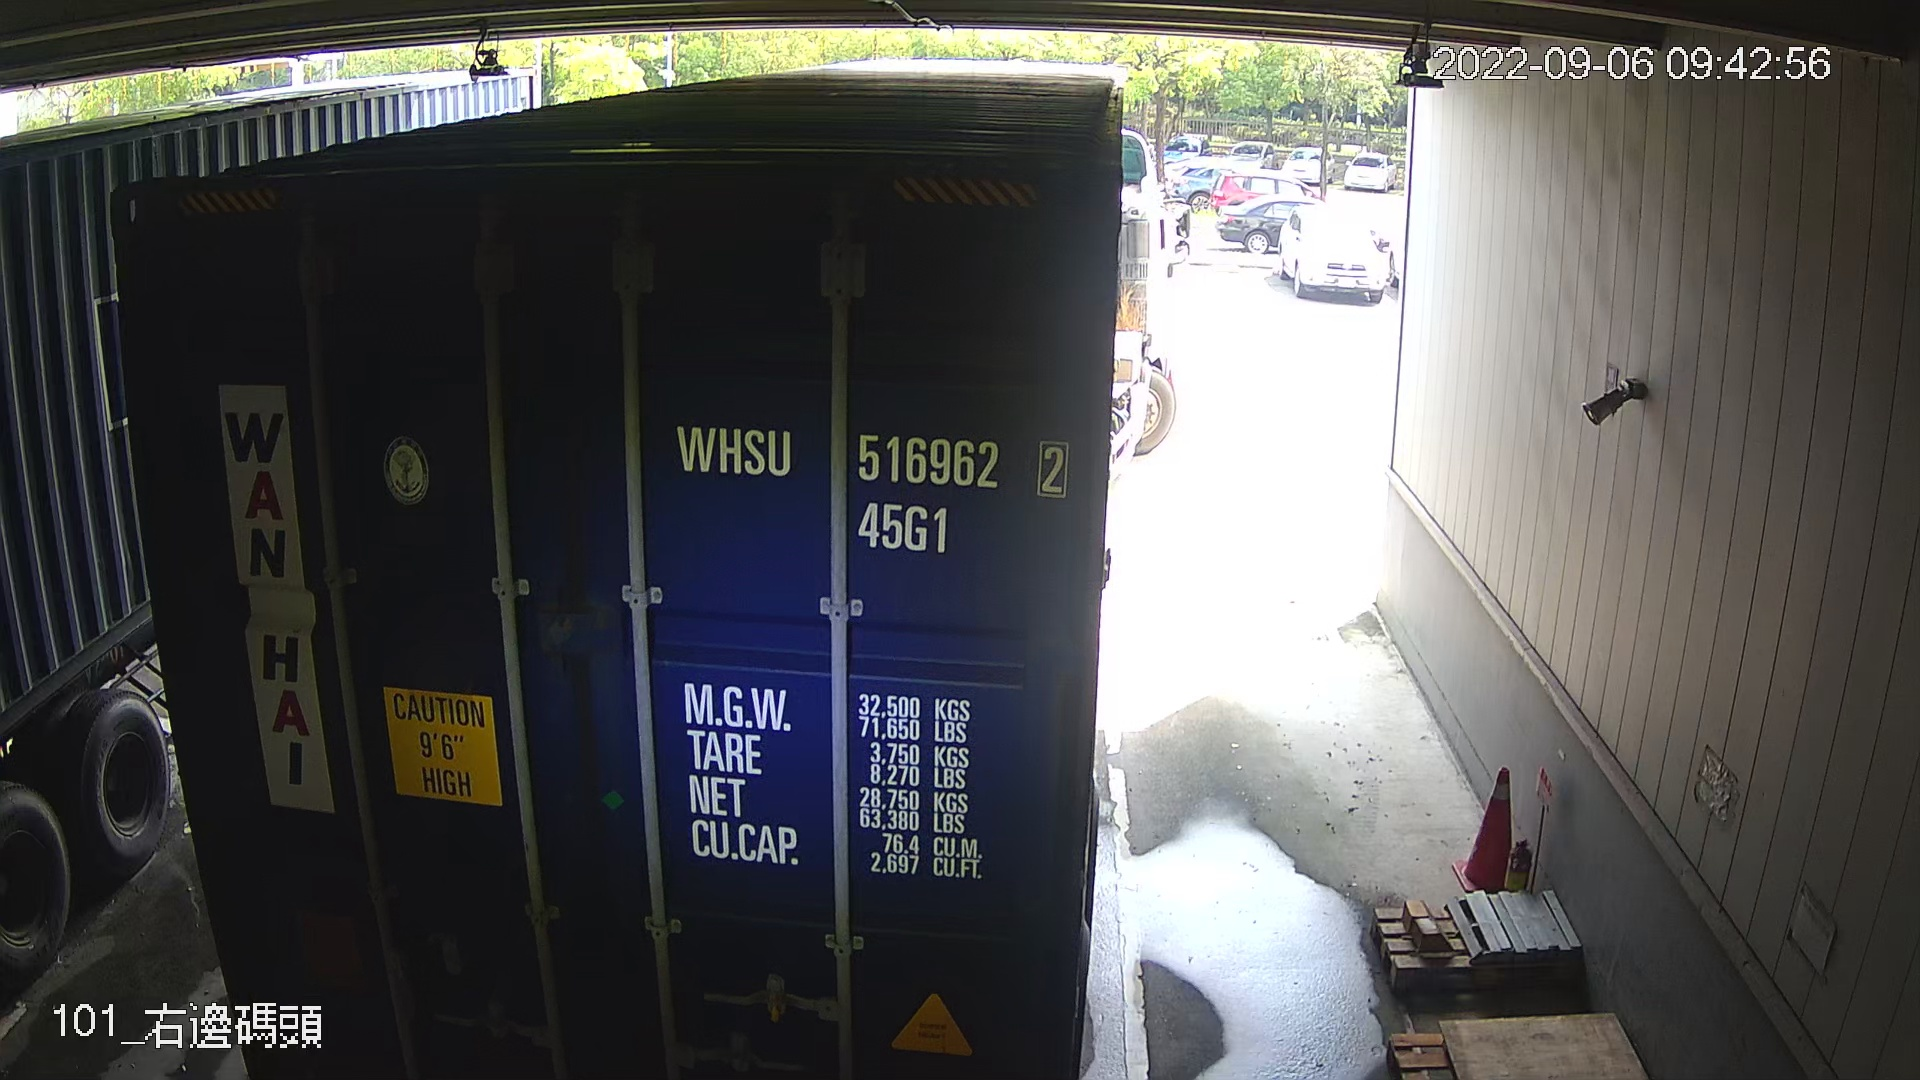container: (659, 402, 1079, 563)
